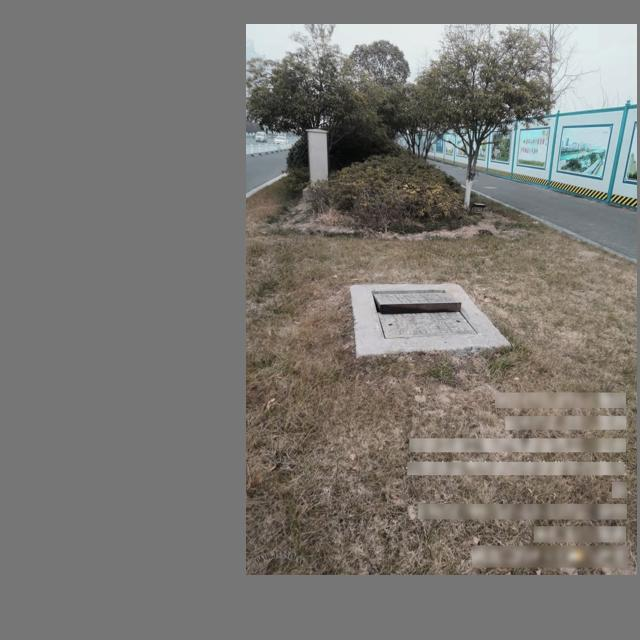uncovered: (371, 287, 483, 345)
